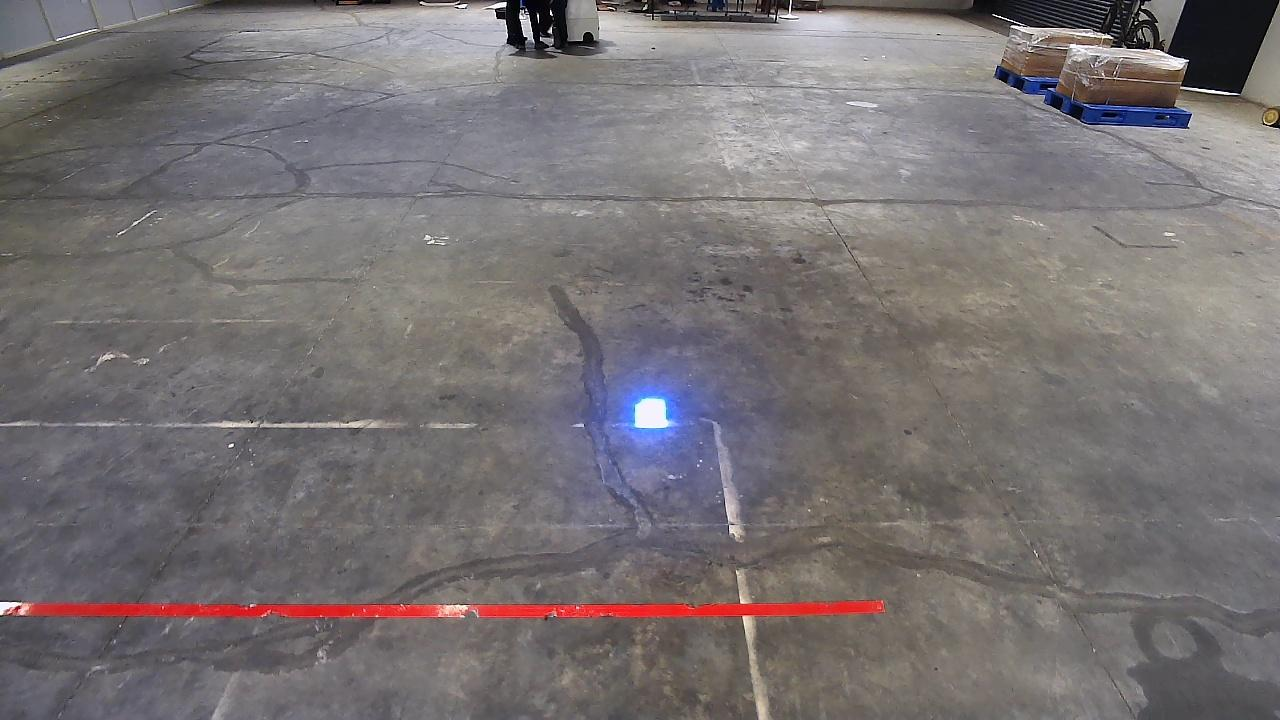red_line: (0, 596, 883, 614)
